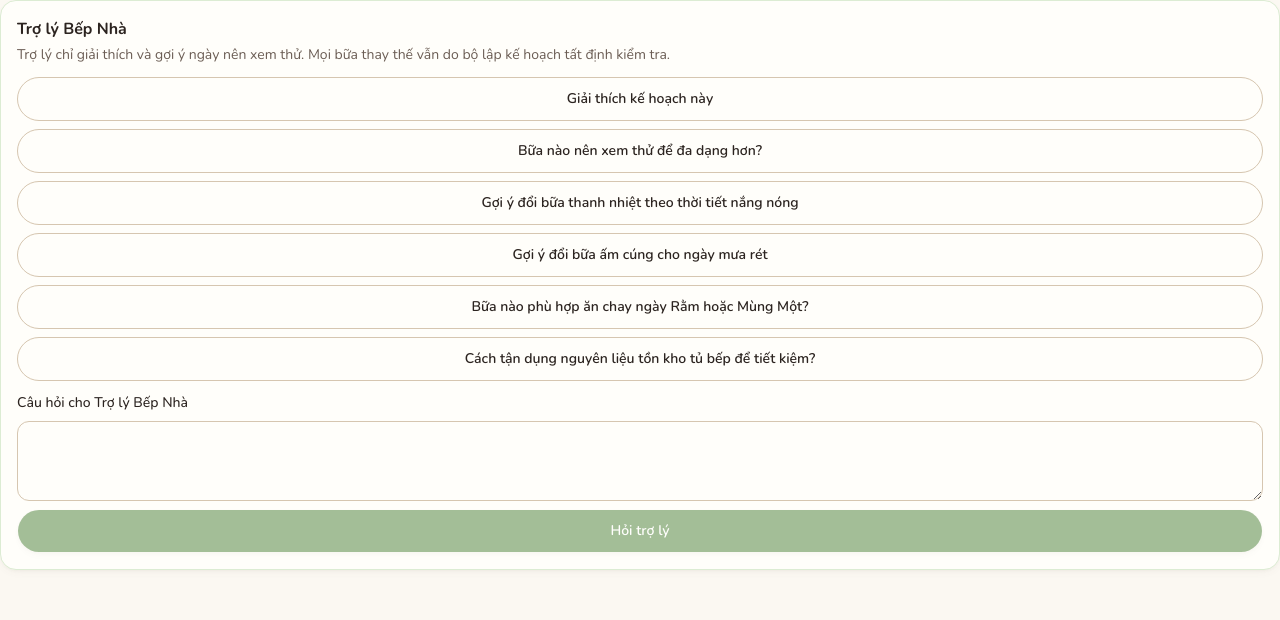
Test case: AssistantCard › shows bounded error state for ASSISTANT_DISABLED
Click the button "Giải thích kế hoạch này" at point(640, 99), box [17,77,1263,121]
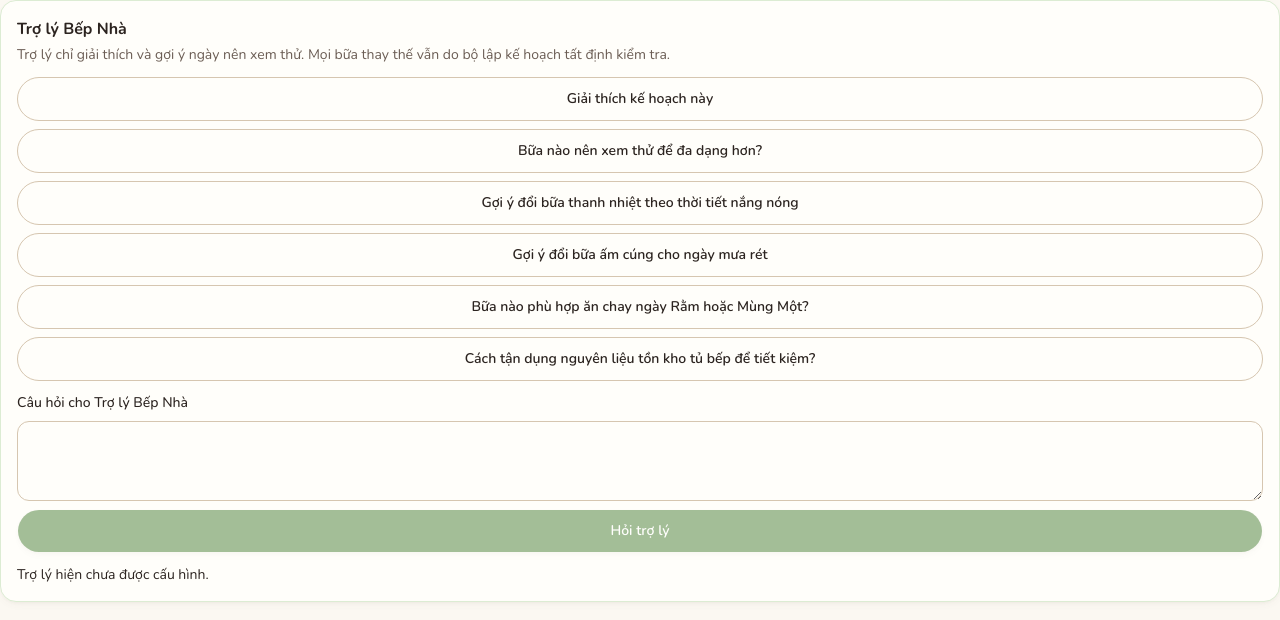
Result: the message reads "Trợ lý hiện chưa được cấu hình." at [17,565,209,584]
